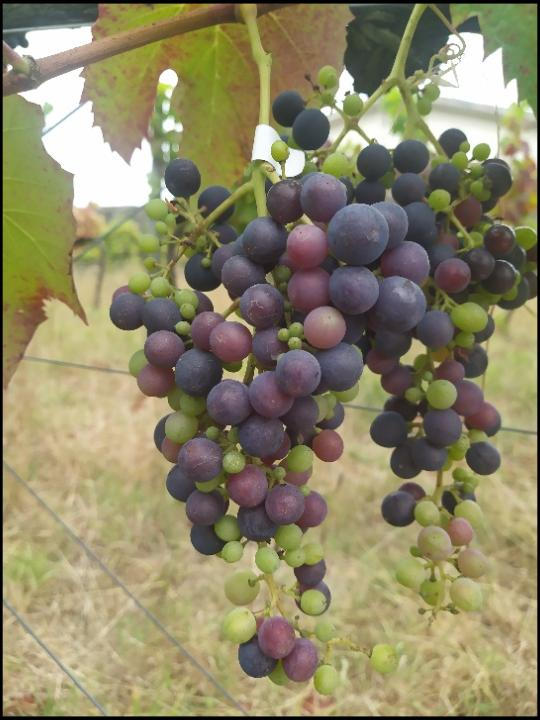grape: (106, 86, 433, 701)
